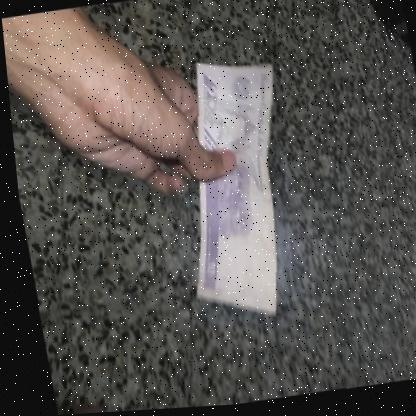ten-back-vef: (153, 55, 312, 328)
